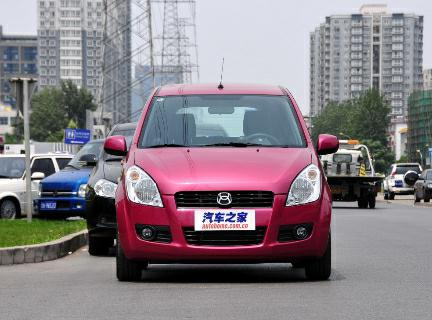铃木-派喜: (99, 76, 343, 293)
